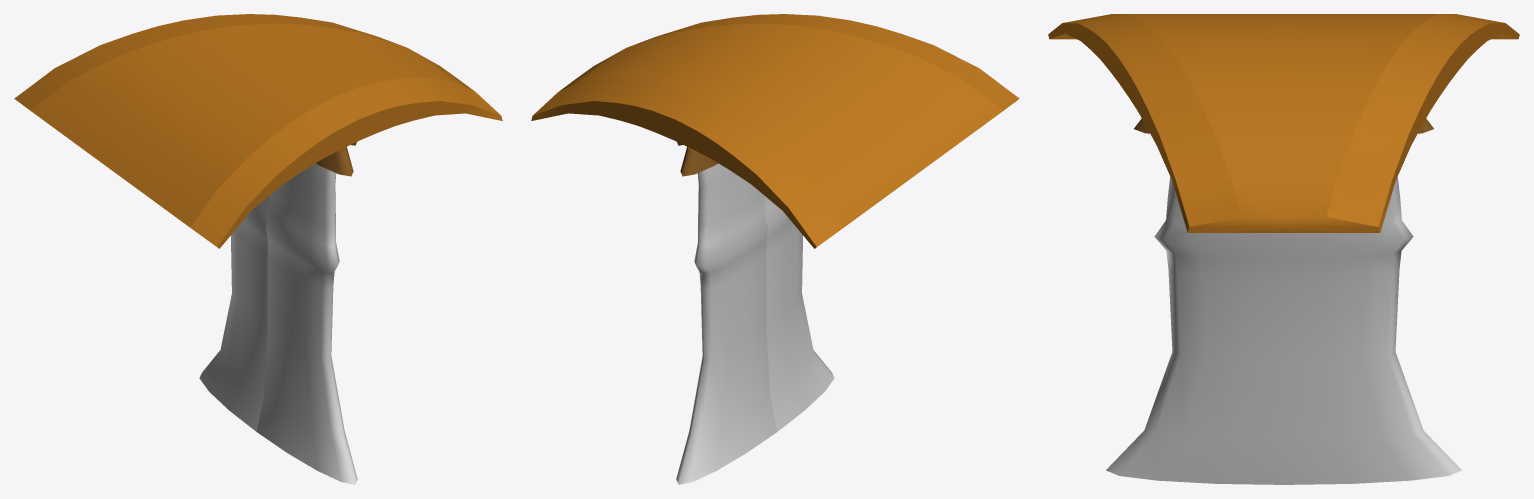
Rendered from pickaxe.glb.
The picture shows the model from 3 angles, left to right: view 1: azimuth 30°, elevation 25°; view 2: azimuth 150°, elevation 25°; view 3: azimuth 270°, elevation 25°; orthographic projection. The views are drawn at different scales.
Parts seen in each view (by area): view 1: Pickaxe_Bronze; view 2: Pickaxe_Bronze; view 3: Pickaxe_Bronze.
Part boxes in pixels (x1,y1,x2,y2): Pickaxe_Bronze: [14, 14, 502, 484]; Pickaxe_Bronze: [531, 14, 1019, 484]; Pickaxe_Bronze: [1048, 14, 1519, 484].
Bounding box in the file's own units: 1 × 1 × 1.
